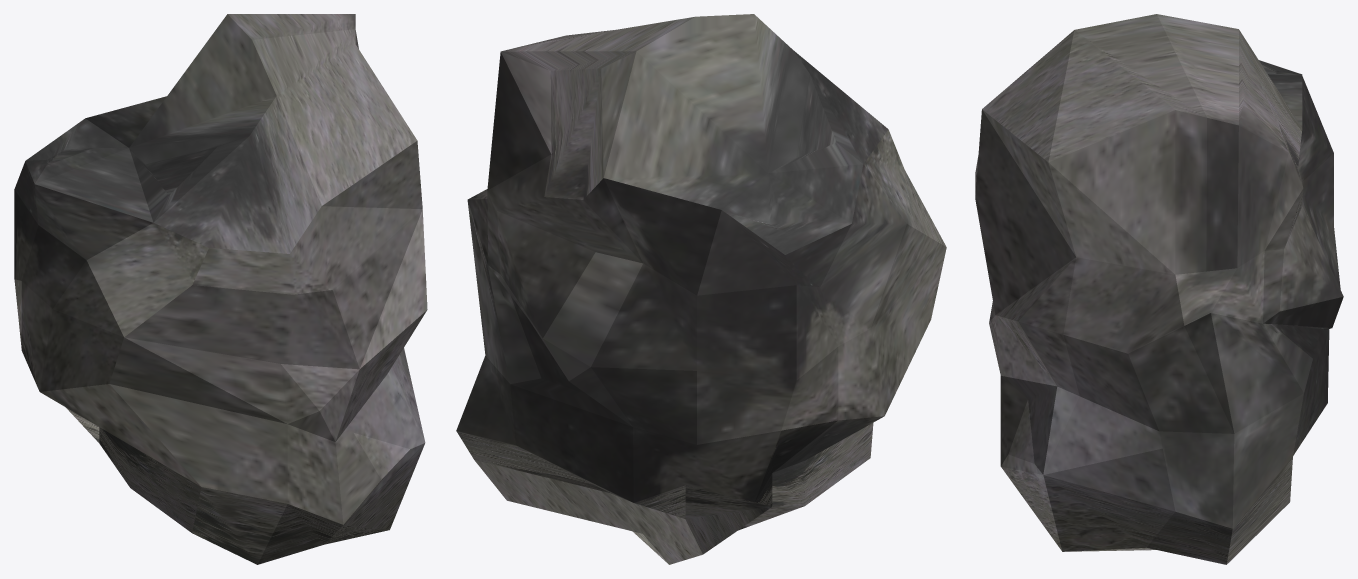
File: asteroid1.obj
3 renders of one model, left to right at view 1: azimuth 30°, elevation 25°; view 2: azimuth 150°, elevation 25°; view 3: azimuth 270°, elevation 25°, orthographic. The views are drawn at different scales.
Parts seen in each view (by area): view 1: Cube.002; view 2: Cube.002; view 3: Cube.002.
Boxes of the visible parts, x1,y1,x2,y2 form: Cube.002: (14, 14, 427, 564); Cube.002: (456, 14, 946, 564); Cube.002: (975, 14, 1343, 564).
Size of the model in its own units: 12.59 by 16.11 by 10.19.
1 material, 1 textured.
